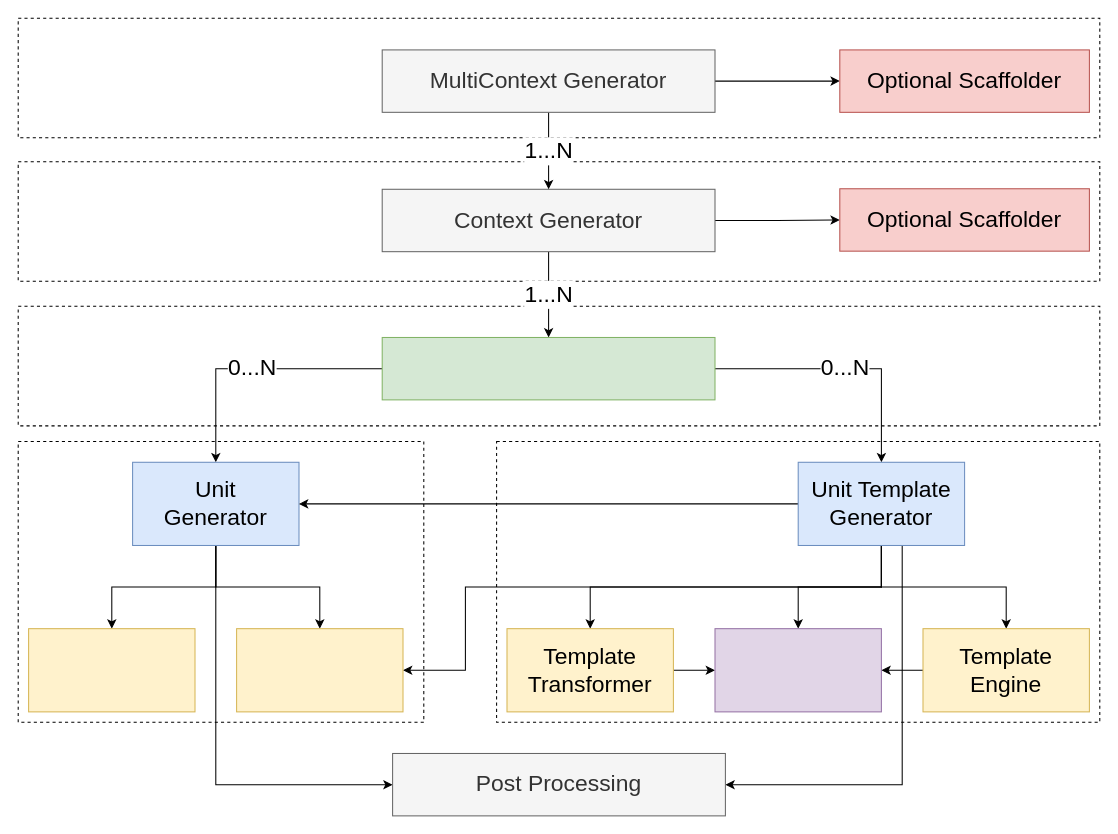
Image size: 1118x834. Some labels were removed from this diagram. The centre of each missing label's shape, as x and y in pixels:
Exporter: point (319, 670)
Metamodel Generator: point (548, 368)
Template Data: point (797, 670)
Transformer: point (111, 670)
